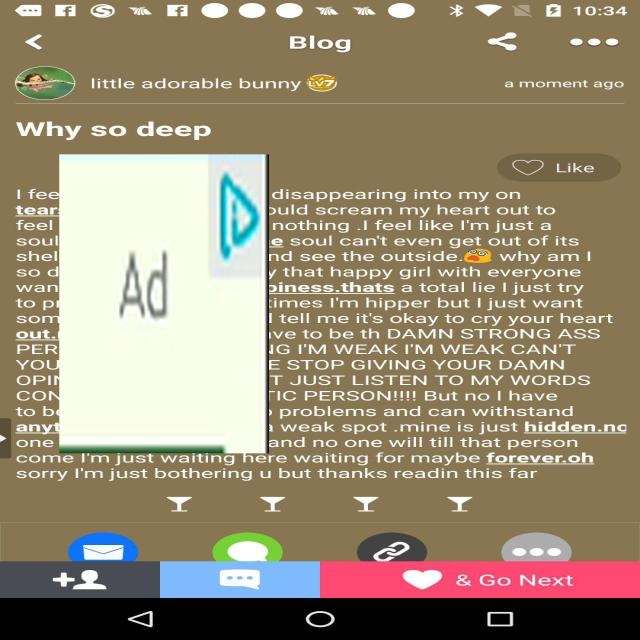sneaking: (59, 154, 269, 453)
